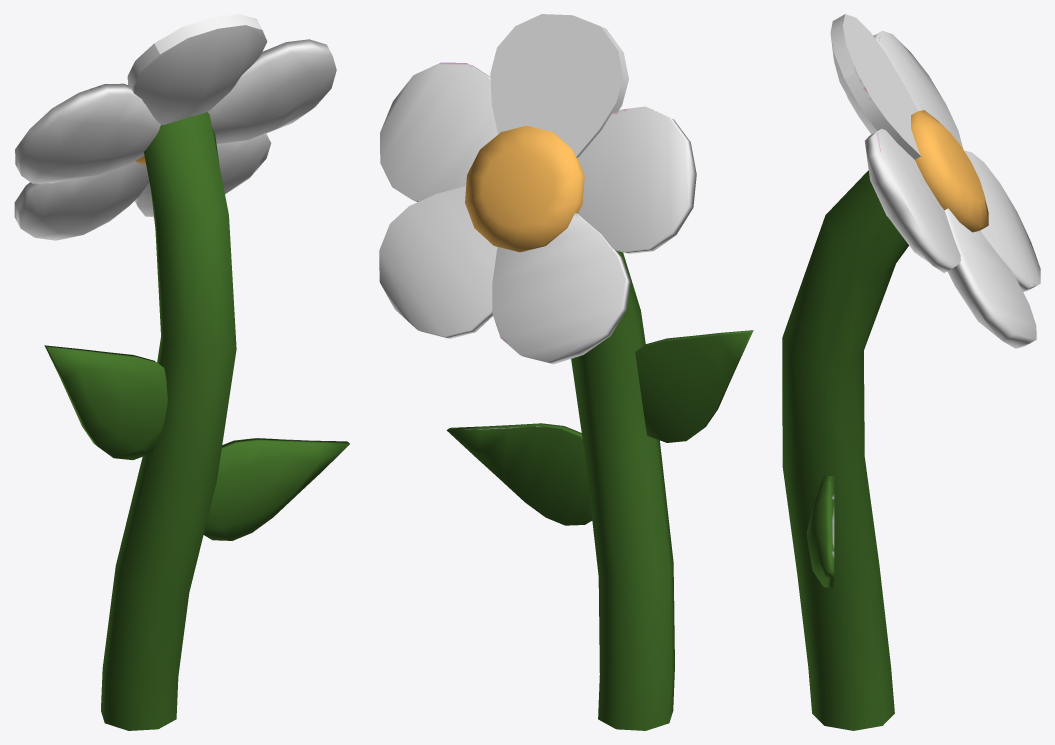
The model's file is flower_a.fbx.
3 views of the same model, side by side, from view 1: azimuth 30°, elevation 25°; view 2: azimuth 150°, elevation 25°; view 3: azimuth 270°, elevation 25° (orthographic). The views are drawn at different scales.
Visible parts, largest first — view 1: flower_a; view 2: flower_a; view 3: flower_a.
Part boxes in pixels (x1,y1,x2,y2): flower_a: (14,14,349,730); flower_a: (379,14,753,730); flower_a: (782,14,1040,730).
Size of the model in its own units: 1.26 by 2.51 by 0.8146.
